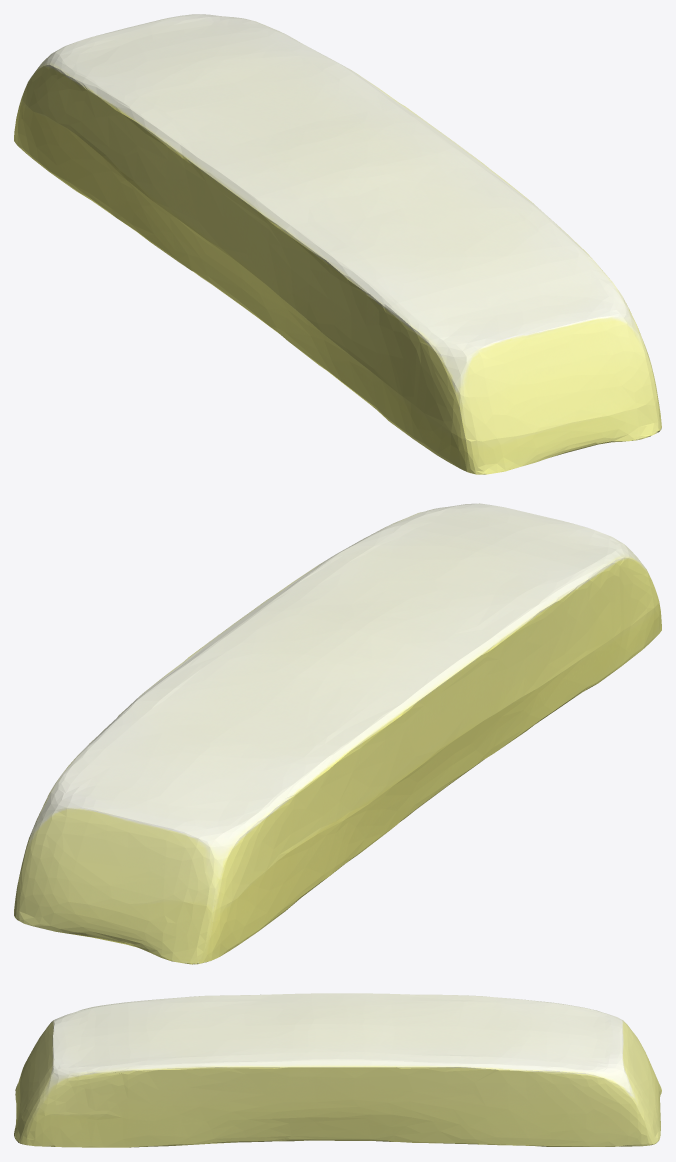
The model's file is butter.glb.
The picture shows the model from 3 angles, top to bottom: view 1: azimuth 30°, elevation 25°; view 2: azimuth 150°, elevation 25°; view 3: azimuth 270°, elevation 25°; orthographic projection. The views are drawn at different scales.
Visible parts, largest first — view 1: world; view 2: world; view 3: world.
Boxes of the visible parts, left/top/right/bottom form: world: left=14, top=14, right=661, bottom=474; world: left=14, top=503, right=661, bottom=964; world: left=14, top=993, right=661, bottom=1147.
Size of the model in its own units: 0.2635 by 0.1492 by 0.9873.
1 material, 1 textured.
